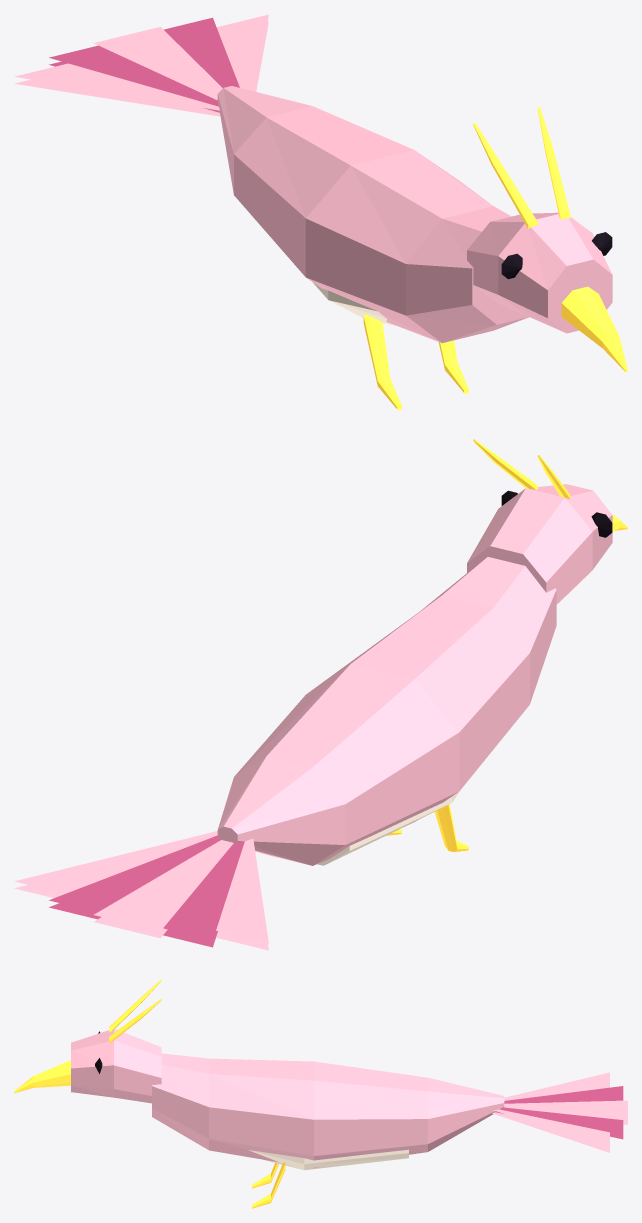
Rendered from sky_hawk_body.glb.
3 renders of one model, top to bottom at view 1: azimuth 30°, elevation 25°; view 2: azimuth 150°, elevation 25°; view 3: azimuth 270°, elevation 25°, orthographic. The views are drawn at different scales.
Visible parts, largest first — view 1: hawk; view 2: hawk; view 3: hawk.
Part boxes in pixels (bbox=[...]): hawk: bbox=[15, 14, 627, 410]; hawk: bbox=[14, 439, 627, 950]; hawk: bbox=[14, 979, 627, 1208].
Size of the model in its own units: 1.9 by 2.43 by 6.45.
